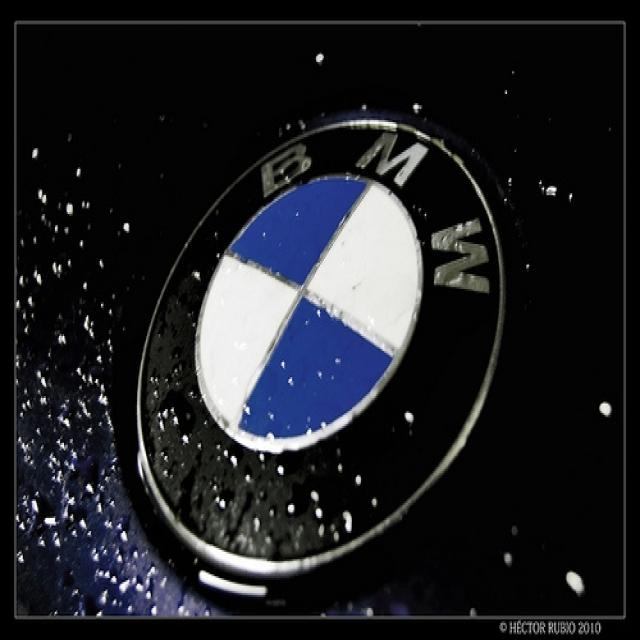bmw: (128, 110, 514, 590)
